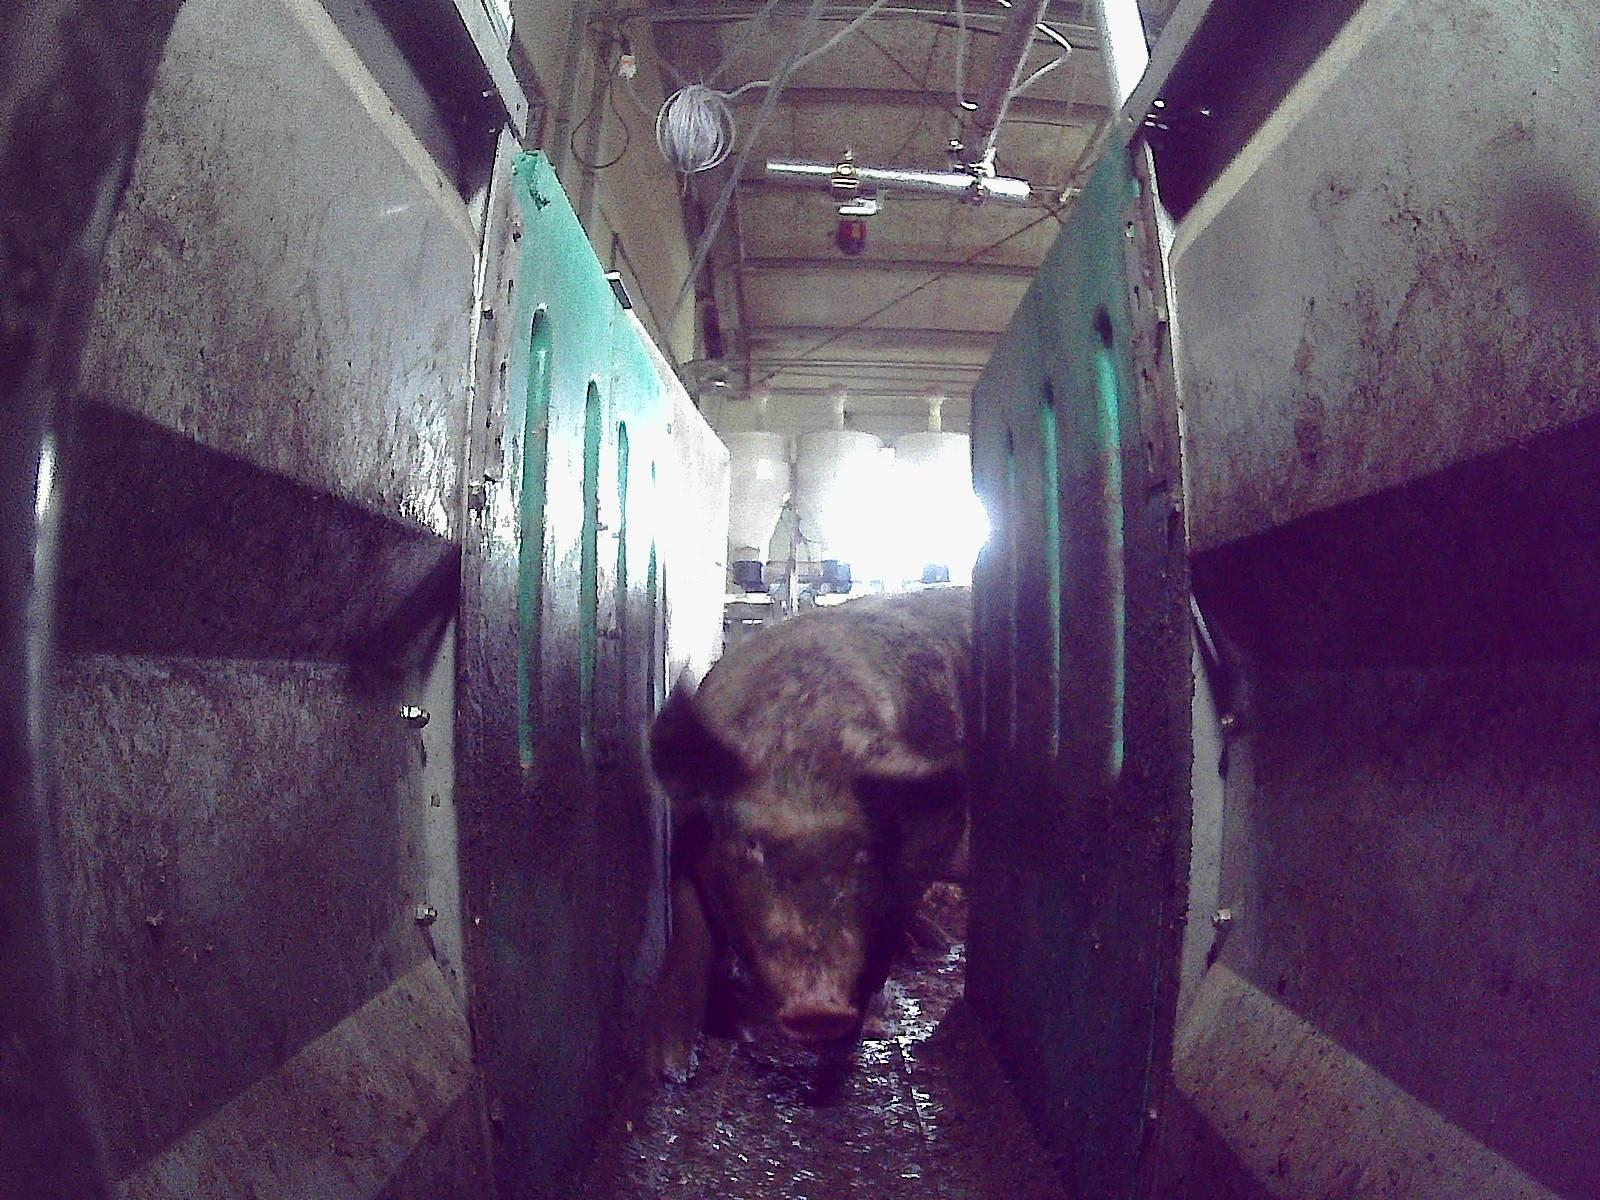Face: (701, 769, 886, 1038)
